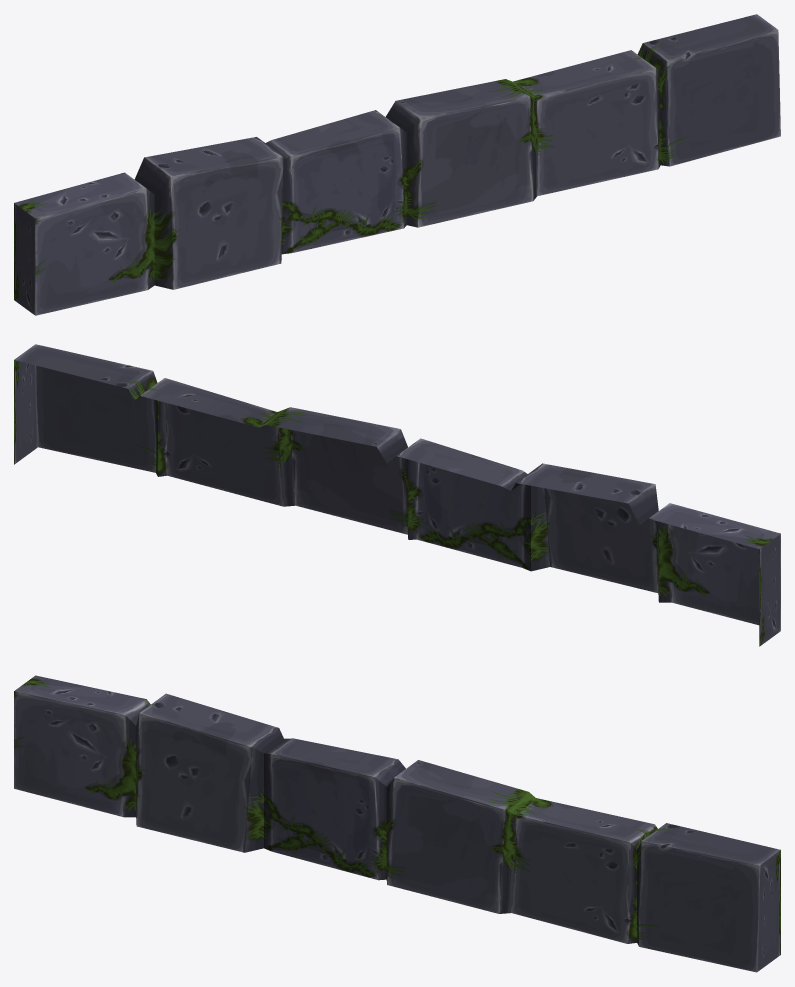
The model's file is MOD_WallTrim_01_E_straight.fbx.
3 renders of one model, top to bottom at view 1: azimuth 30°, elevation 25°; view 2: azimuth 150°, elevation 25°; view 3: azimuth 330°, elevation 25°, orthographic.
Parts seen in each view (by area): view 1: MOD_WallTrim_01_E_straight; view 2: MOD_WallTrim_01_E_straight; view 3: MOD_WallTrim_01_E_straight.
Boxes of the visible parts, x1,y1,x2,y2 form: MOD_WallTrim_01_E_straight: [14, 14, 780, 315]; MOD_WallTrim_01_E_straight: [14, 344, 780, 646]; MOD_WallTrim_01_E_straight: [14, 675, 780, 972].
Size of the model in its own units: 400 by 57.06 by 27.42.
